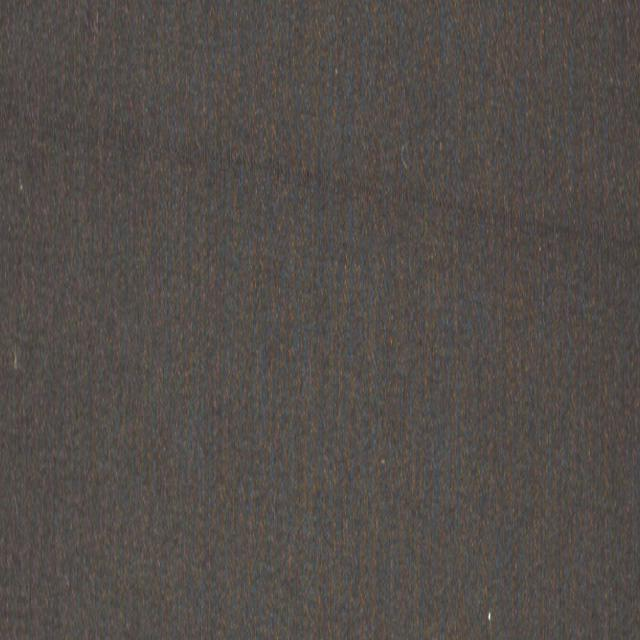Line: (0, 100, 640, 267)
